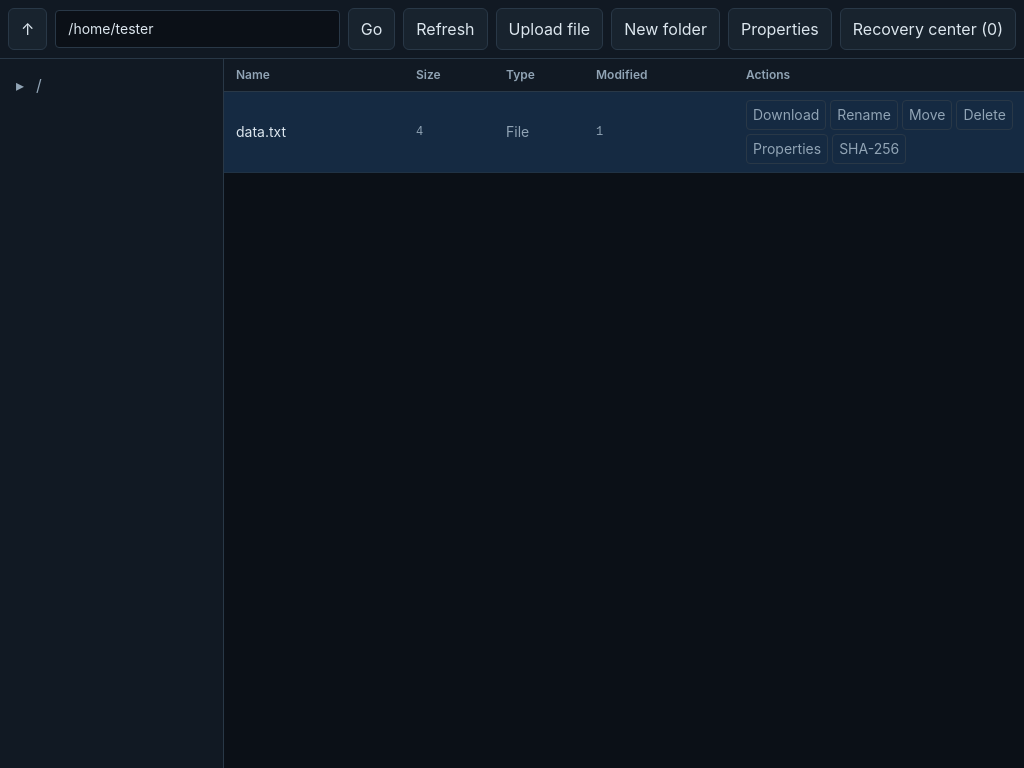
Test: ManualSftpWorkspace › shows properties and SHA-256 from explicit read-only inspection
Click the button "SHA-256" at (869, 149), box [832,134,906,164]
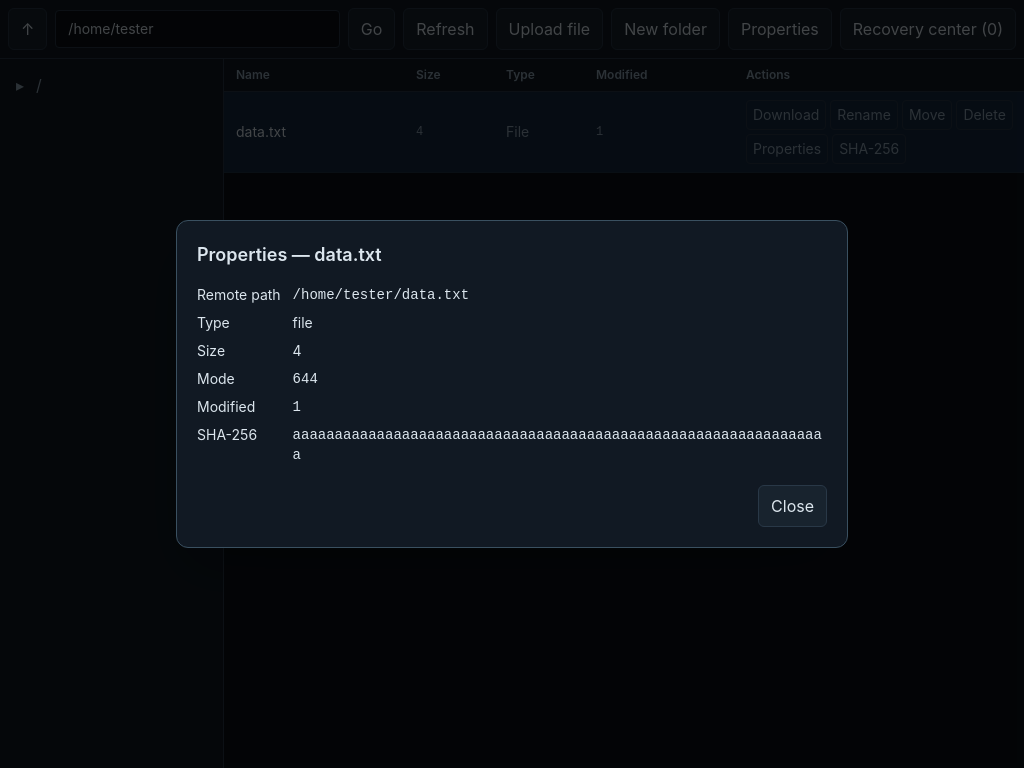
Now the text "/home/tester/data.txt" is shown, box [293,287,469,303]
